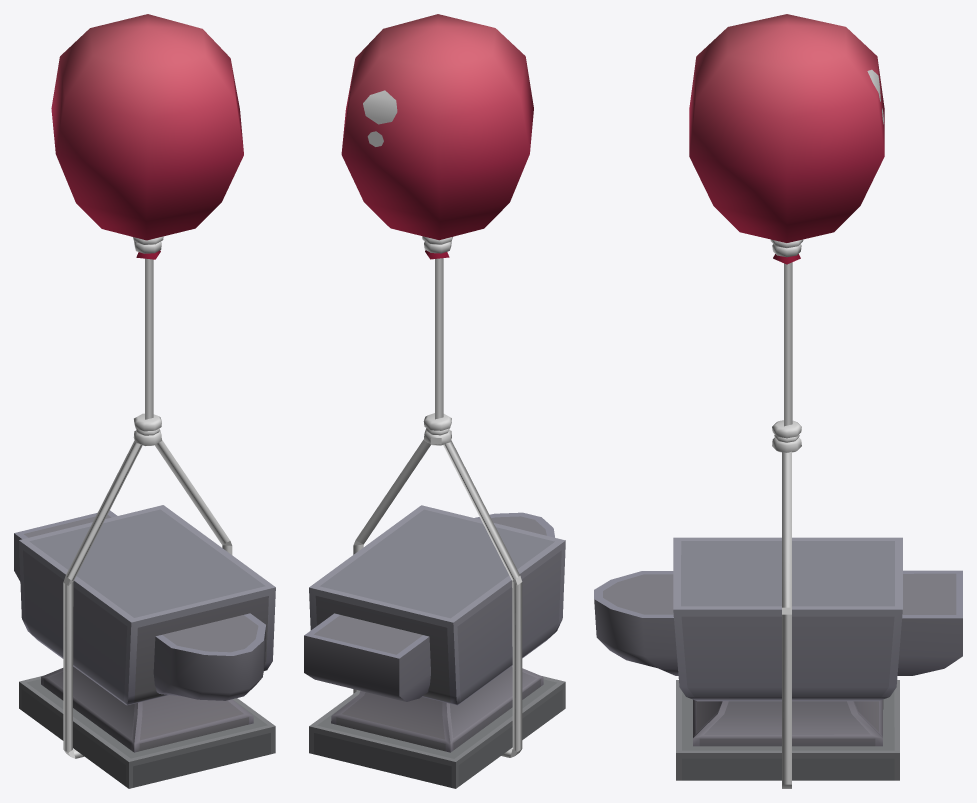
File: FloatingAnvil.glb
The picture shows the model from 3 angles, left to right: view 1: azimuth 30°, elevation 25°; view 2: azimuth 150°, elevation 25°; view 3: azimuth 270°, elevation 25°; orthographic projection. The views are drawn at different scales.
Parts seen in each view (by area): view 1: FloatingAnvil; view 2: FloatingAnvil; view 3: FloatingAnvil.
Part boxes in pixels (bbox=[...]): FloatingAnvil: bbox=[14, 14, 275, 788]; FloatingAnvil: bbox=[304, 14, 565, 788]; FloatingAnvil: bbox=[594, 14, 962, 788].
Size of the model in its own units: 0.8512 by 3.14 by 1.45.
